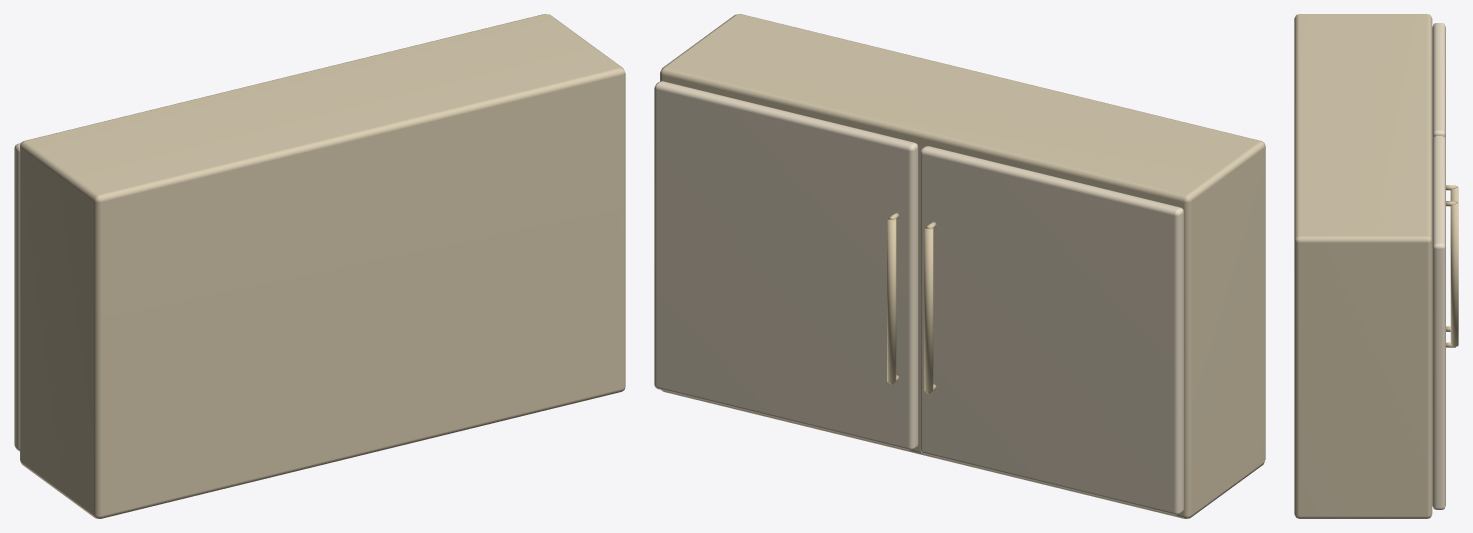
The model's file is upper_cabinet.glb.
The picture shows the model from 3 angles, left to right: view 1: azimuth 30°, elevation 25°; view 2: azimuth 150°, elevation 25°; view 3: azimuth 270°, elevation 25°; orthographic projection. The views are drawn at different scales.
Visible parts, largest first — view 1: body; view 2: body; view 3: body.
Part boxes in pixels (x1,y1,x2,y2): body: [14, 14, 625, 518]; body: [654, 14, 1265, 518]; body: [1294, 14, 1458, 518].
Bounding box in the file's own units: 1.2 × 0.7 × 0.369.
